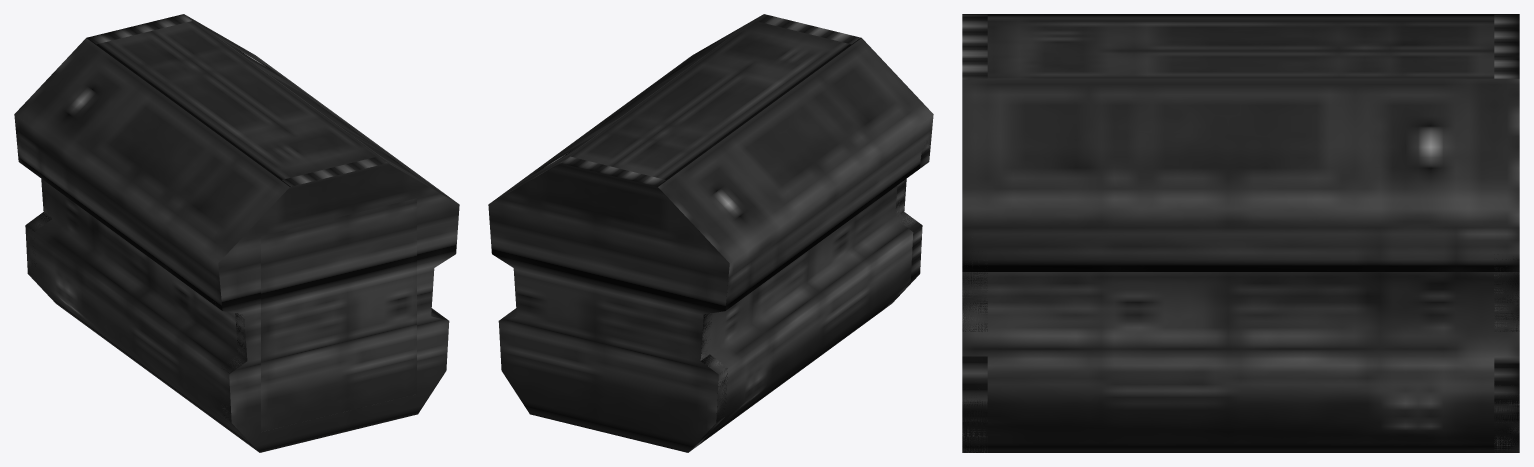
The model's file is utl15b3.obj.
The picture shows the model from 3 angles, left to right: view 1: azimuth 30°, elevation 25°; view 2: azimuth 150°, elevation 25°; view 3: azimuth 270°, elevation 25°; orthographic projection. The views are drawn at different scales.
Visible parts, largest first — view 1: frm-utl15b, frm-back_door, frm-front_door; view 2: frm-utl15b, frm-front_door, frm-back_door; view 3: frm-utl15b, frm-back_door, frm-front_door.
Part boxes in pixels (left/top/right/bottom): frm-utl15b: left=14, top=14, right=459, bottom=452; frm-back_door: left=221, top=156, right=416, bottom=445; frm-front_door: left=14, top=14, right=191, bottom=278; frm-utl15b: left=490, top=14, right=933, bottom=450; frm-front_door: left=488, top=156, right=729, bottom=452; frm-back_door: left=756, top=14, right=930, bottom=309; frm-utl15b: left=962, top=14, right=1519, bottom=452; frm-back_door: left=962, top=14, right=987, bottom=452; frm-front_door: left=1494, top=14, right=1519, bottom=452.
Size of the model in its own units: 7.05 by 7.22 by 10.31.
Materials: 1 (1 with a texture image).
